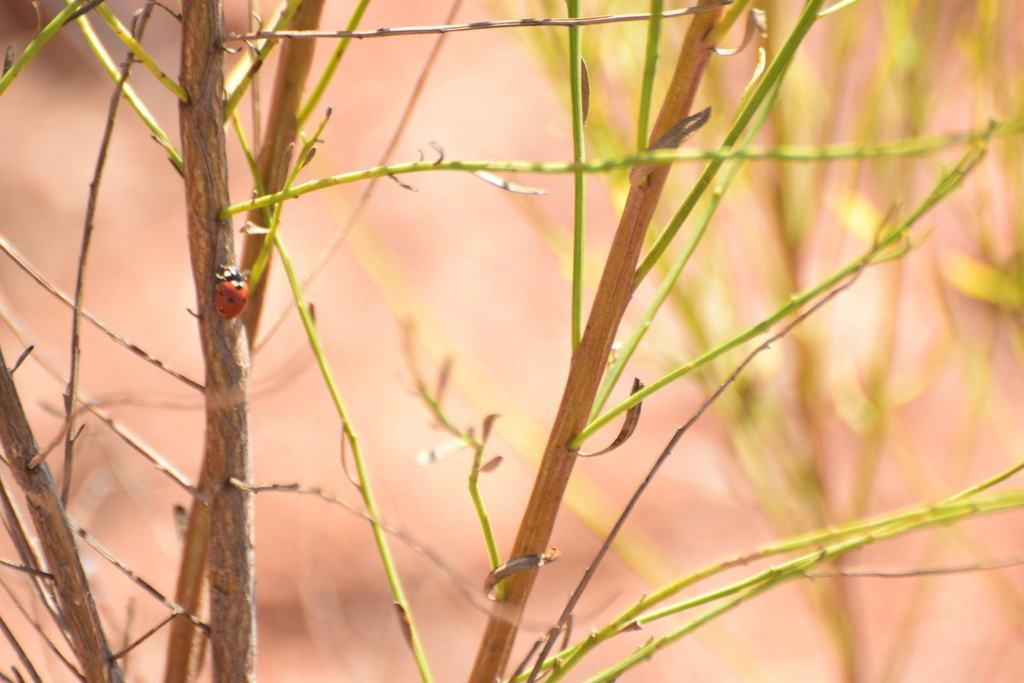ladybug: (213, 263, 252, 321)
